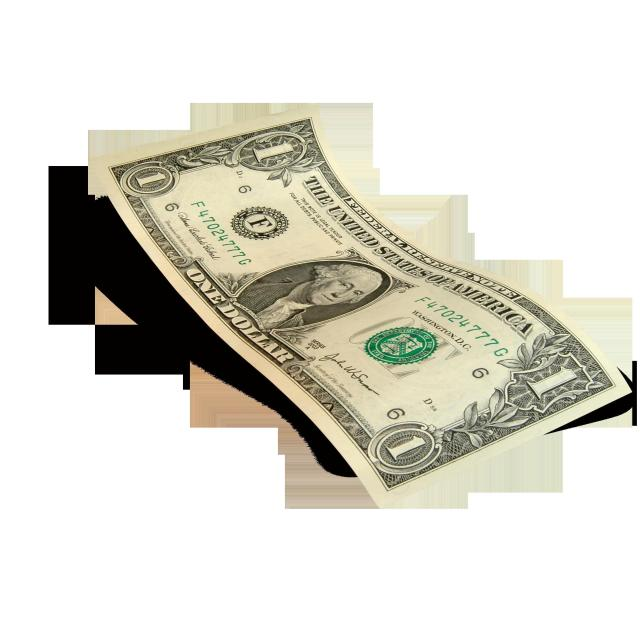1-Front: (79, 105, 618, 505)
